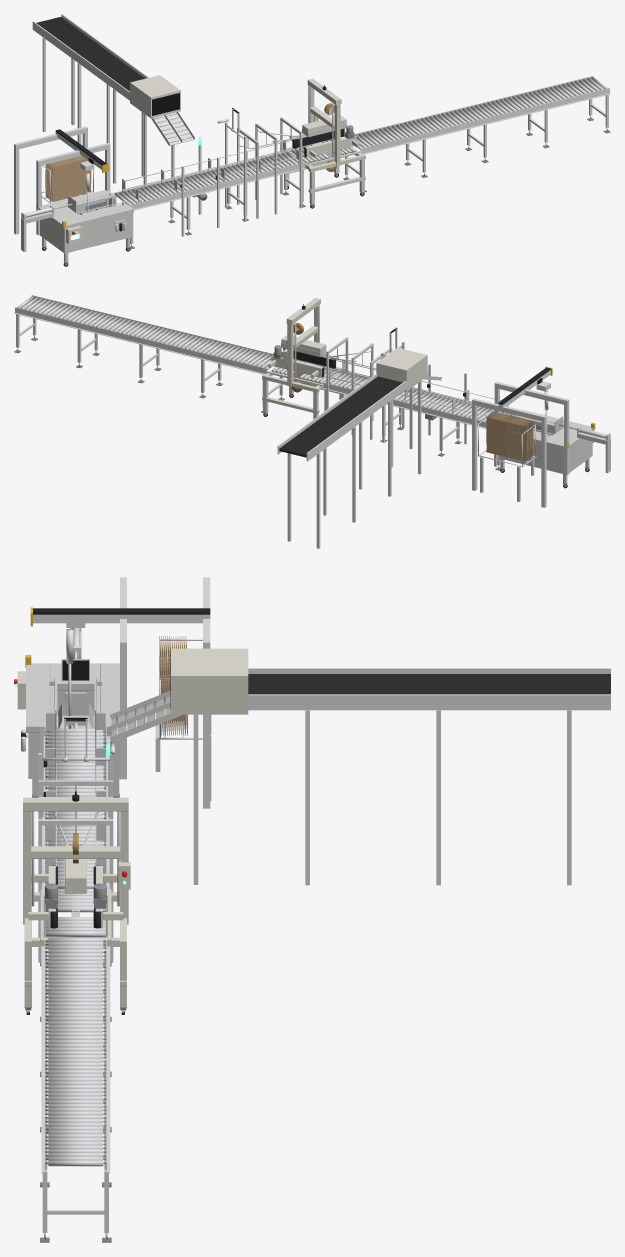
Rendered from caseline_equipment.fbx.
The picture shows the model from 3 angles, top to bottom: view 1: azimuth 30°, elevation 25°; view 2: azimuth 150°, elevation 25°; view 3: azimuth 270°, elevation 25°; orthographic projection. The views are drawn at different scales.
Visible parts, largest first — view 1: FillAndFold, Erector_Body, Sealer_Body, Outfeed_Frame, Erector_Gantry, Infeed_Frame, Magazine_Blanks; view 2: FillAndFold, Sealer_Body, Outfeed_Frame, Erector_Gantry, Erector_Body, Magazine_Blanks, Infeed_Frame, Erector_Magazine; view 3: FillAndFold, Sealer_Body, Erector_Body, Erector_Gantry, Outfeed_Frame, Magazine_Blanks, Infeed_Frame.
Part boxes in pixels (x1,y1,x2,y2): FillAndFold: (32, 14, 306, 236); Erector_Body: (21, 190, 133, 266); Sealer_Body: (284, 78, 365, 208); Outfeed_Frame: (343, 76, 610, 192); Erector_Gantry: (14, 126, 110, 235); Infeed_Frame: (112, 150, 305, 249); Magazine_Blanks: (45, 156, 91, 201); FillAndFold: (277, 337, 508, 548); Sealer_Body: (262, 298, 344, 419); Outfeed_Frame: (14, 295, 284, 412); Erector_Gantry: (472, 366, 569, 507); Erector_Body: (498, 410, 610, 488); Magazine_Blanks: (486, 412, 533, 461); Infeed_Frame: (322, 370, 512, 470); Erector_Magazine: (478, 417, 536, 501); FillAndFold: (38, 648, 610, 962); Sealer_Body: (23, 791, 130, 1014); Erector_Body: (14, 628, 119, 797); Erector_Gantry: (30, 577, 210, 808); Outfeed_Frame: (40, 936, 111, 1242); Magazine_Blanks: (159, 636, 187, 735); Infeed_Frame: (40, 726, 111, 966).
Size of the model in its own units: 10.45 by 1.94 by 5.02.
